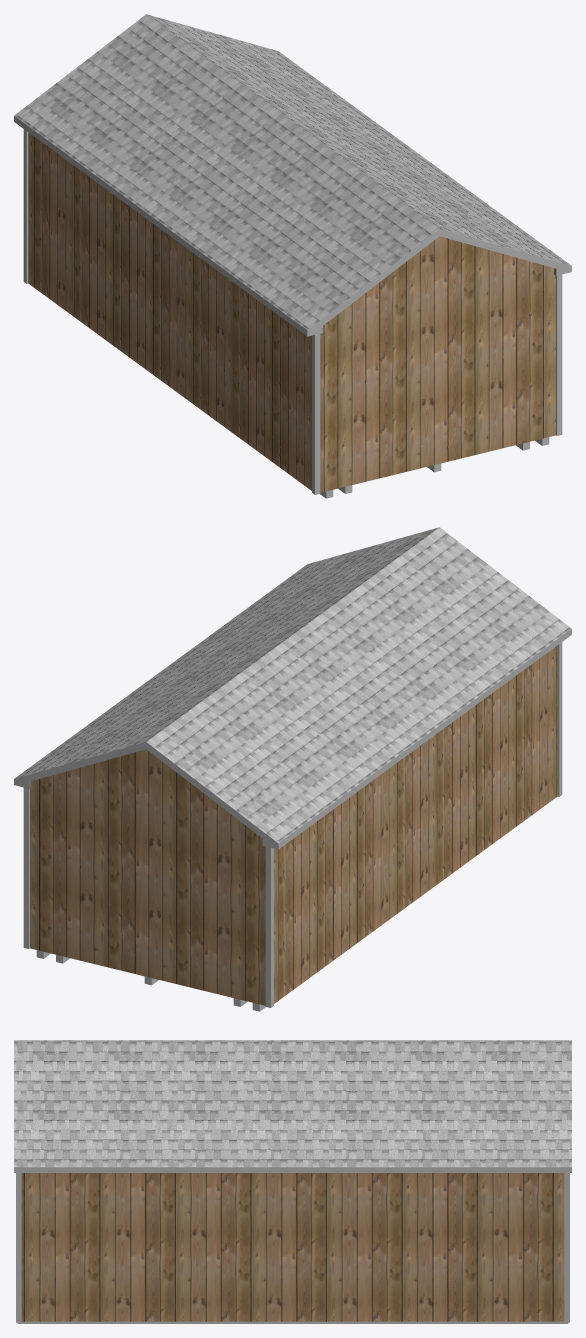
Rendered from Single Garage A-frame_12x24.obj.
3 renders of one model, top to bottom at view 1: azimuth 30°, elevation 25°; view 2: azimuth 150°, elevation 25°; view 3: azimuth 270°, elevation 25°, orthographic. The views are drawn at different scales.
Parts seen in each view (by area): view 1: Shed, Roof, Sides, Trim; view 2: Shed, Roof, Sides, Trim; view 3: Shed, Roof, Sides, Trim, Floor.
Part boxes in pixels (x1,y1,x2,y2): Shed: (28, 132, 556, 492); Roof: (14, 14, 571, 330); Sides: (14, 116, 571, 336); Trim: (23, 129, 562, 494); Shed: (29, 645, 557, 1005); Roof: (14, 527, 571, 843); Sides: (14, 629, 571, 849); Trim: (23, 642, 562, 1007); Shed: (21, 1173, 564, 1321); Roof: (14, 1040, 571, 1167); Sides: (14, 1167, 571, 1172); Trim: (16, 1173, 569, 1322); Floor: (17, 1321, 568, 1323).
Size of the model in its own units: 3.86 by 3.4 by 7.42.
